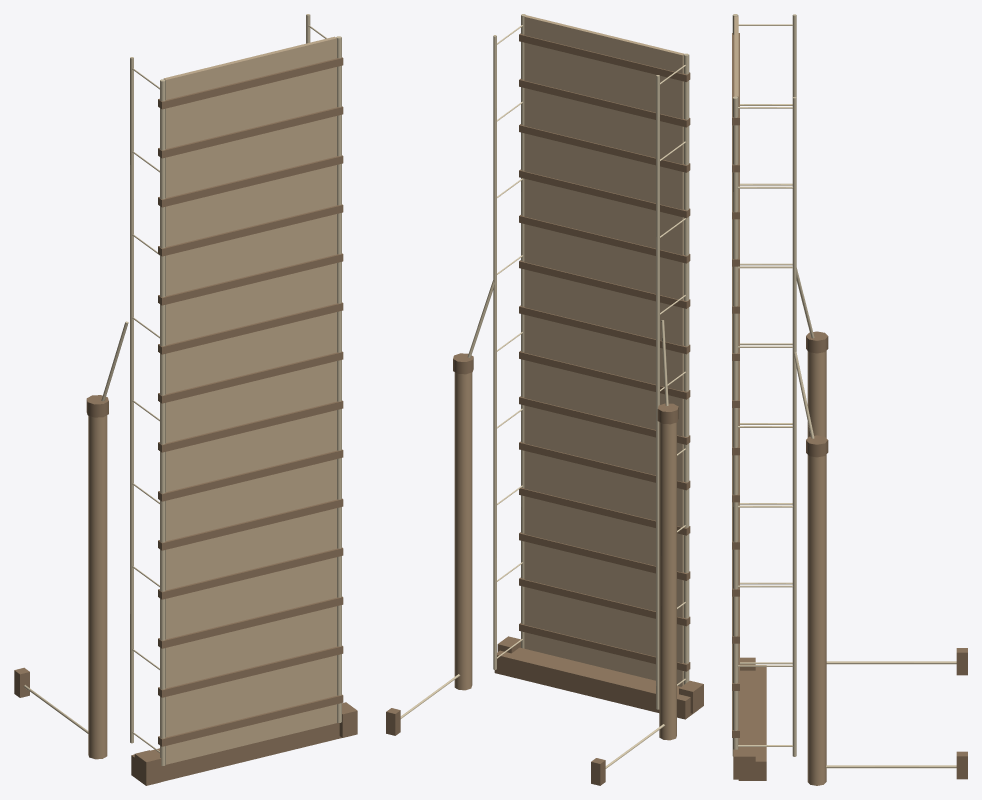
The model's file is rope_lowered.glb.
The picture shows the model from 3 angles, left to right: view 1: azimuth 30°, elevation 25°; view 2: azimuth 150°, elevation 25°; view 3: azimuth 270°, elevation 25°; orthographic projection. The views are drawn at different scales.
Parts seen in each view (by area): view 1: span, bridge; view 2: span, bridge; view 3: bridge, span.
Part boxes in pixels (bbox=[...]): span: bbox=[130, 14, 343, 765]; bridge: bbox=[14, 395, 357, 785]; span: bbox=[493, 14, 690, 709]; bridge: bbox=[386, 353, 703, 785]; bridge: bbox=[733, 331, 967, 785]; span: bbox=[732, 14, 796, 756].
Size of the model in its own units: 4.8 by 13.35 by 4.22.
